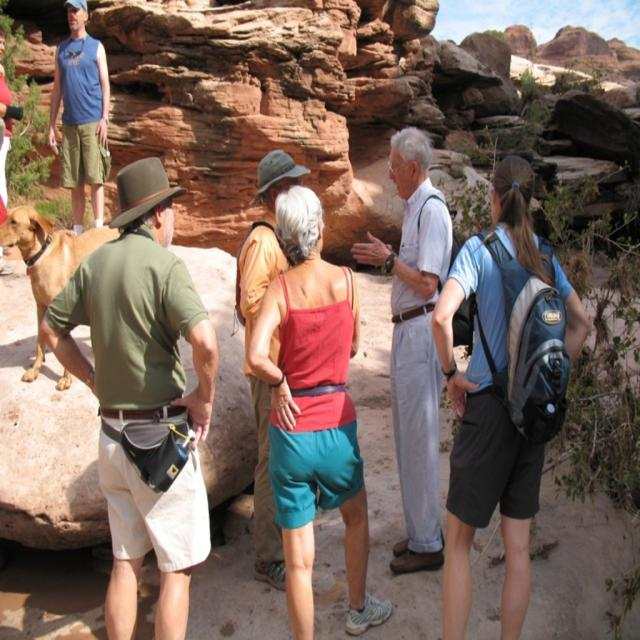backpack: (460, 230, 567, 441)
